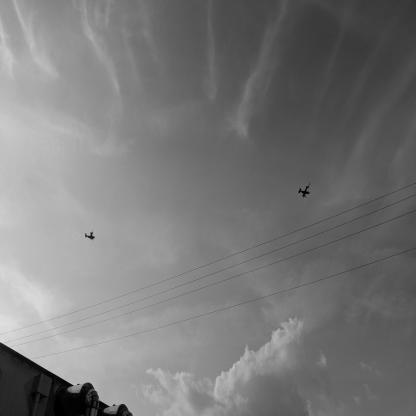V22: (299, 183, 312, 200), (86, 229, 96, 244)
